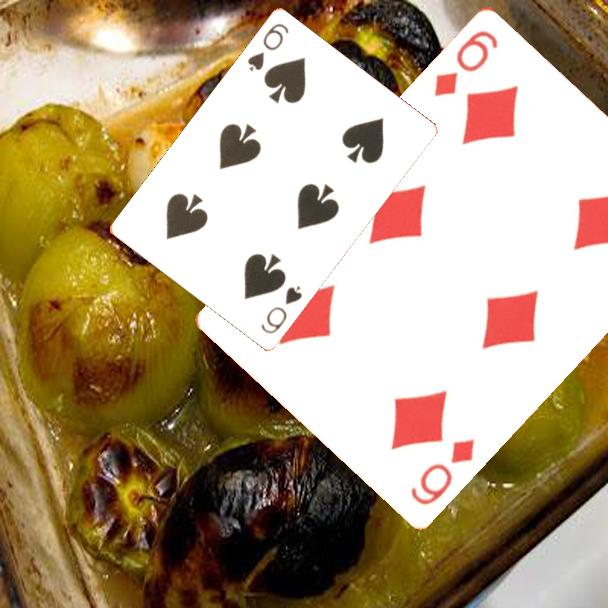d06: (430, 26, 501, 99), (407, 434, 478, 507)
s06: (244, 20, 292, 75), (257, 283, 305, 337)
